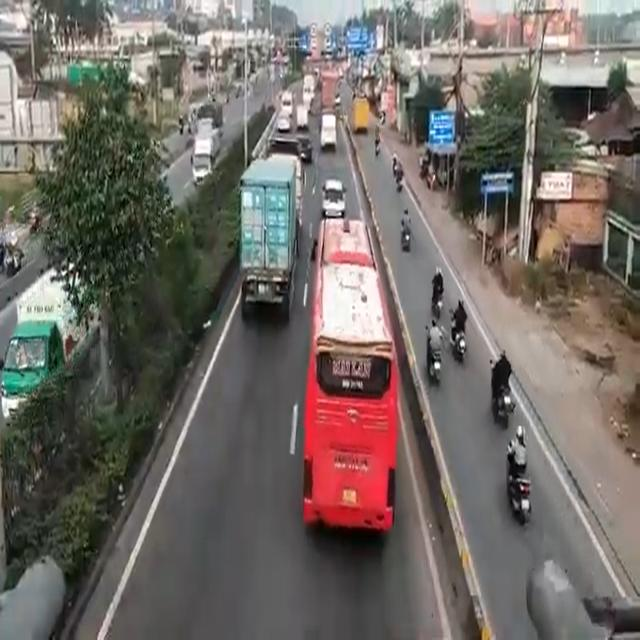bus: (314, 216, 392, 539)
car: (323, 175, 343, 216), (320, 109, 338, 153), (298, 105, 309, 132)
motorbike: (507, 431, 531, 517), (489, 350, 508, 426), (447, 305, 469, 362), (425, 323, 443, 377), (430, 271, 446, 314), (399, 212, 414, 247)
truck: (238, 147, 302, 331), (0, 267, 87, 394), (318, 70, 337, 111), (350, 95, 369, 132)
